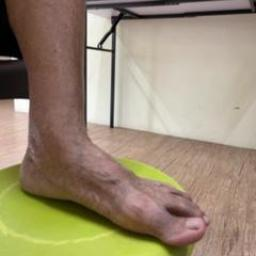Medial View -Left Foot-: (6, 91, 224, 255)
